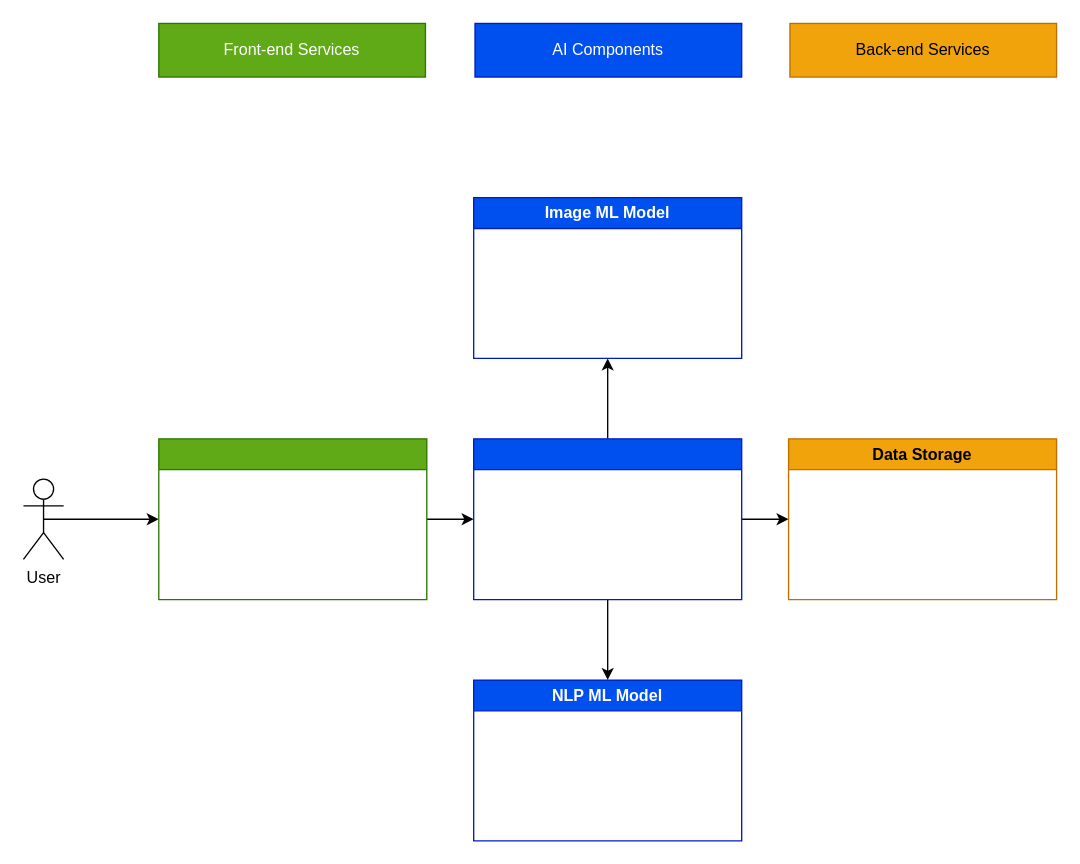
This 1080x864 diagram has some shape labels left out. The shapes that lost their labels are listed below. From the top down, each one's centre as x and y in pixels, then its label:
At [292,519]: "Web Service".
At [607,519]: "AI Orchestration Service".
